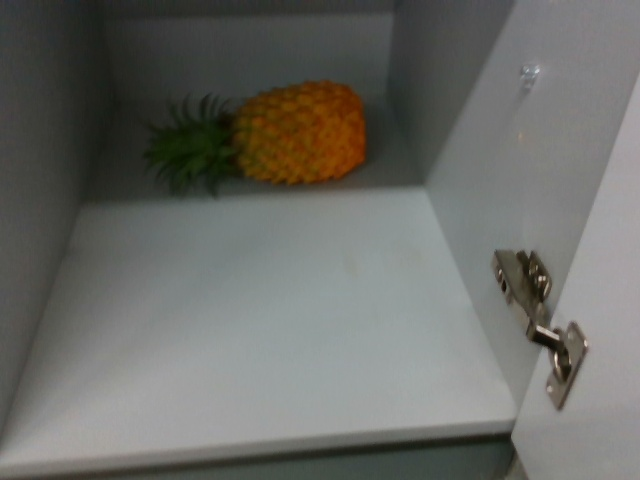pineapple: (151, 76, 376, 205)
